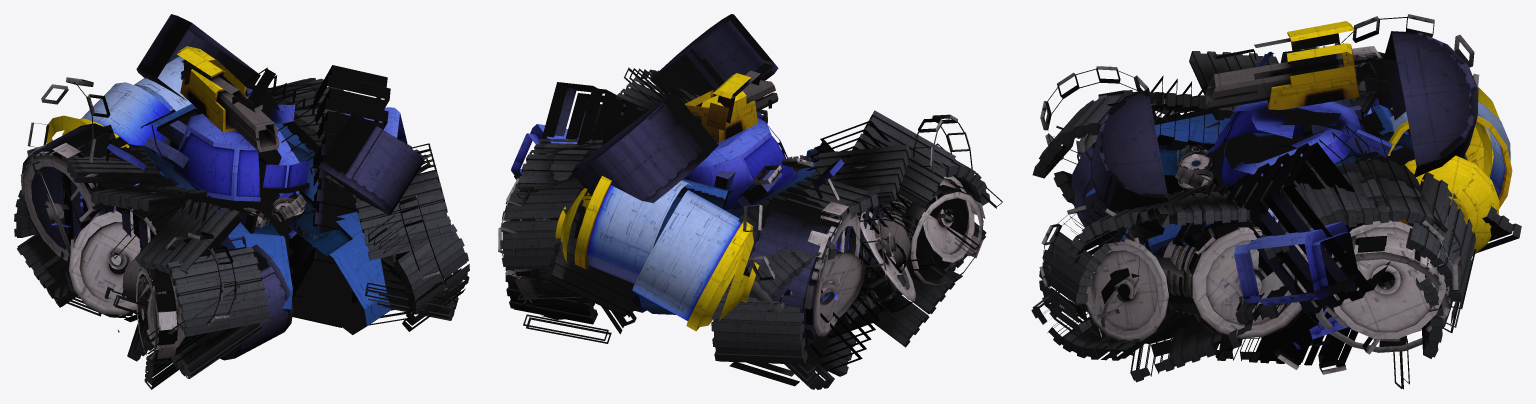
Rendered from PlayerB_die8.obj.
3 views of the same model, side by side, from view 1: azimuth 30°, elevation 25°; view 2: azimuth 150°, elevation 25°; view 3: azimuth 270°, elevation 25° (orthographic). The views are drawn at different scales.
Parts seen in each view (by area): view 1: Object005; view 2: Object005; view 3: Object005.
Part boxes in pixels (left/top/right/bottom): Object005: left=14, top=14, right=469, bottom=389; Object005: left=498, top=14, right=1002, bottom=389; Object005: left=1031, top=14, right=1521, bottom=389.
Size of the model in its own units: 154 by 116 by 163.
2 materials, 2 textured.
